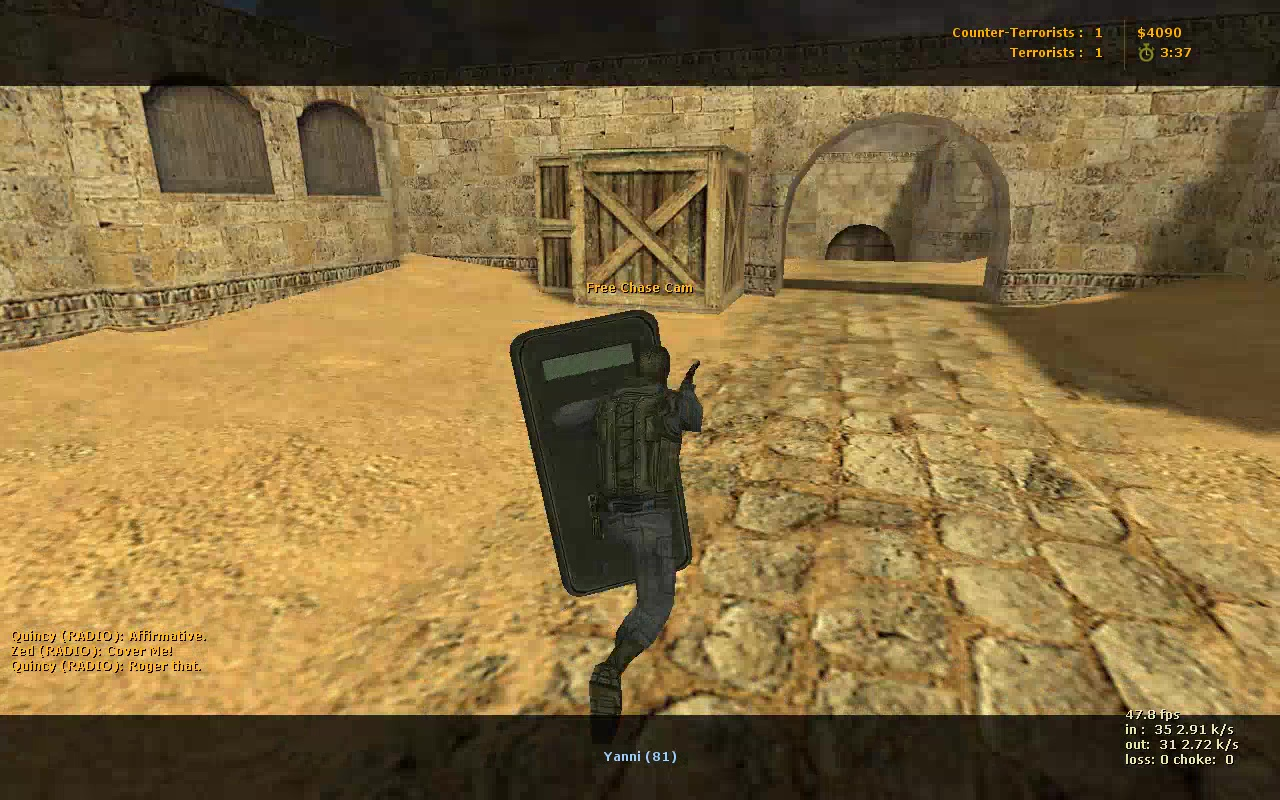ct: (511, 311, 704, 747)
